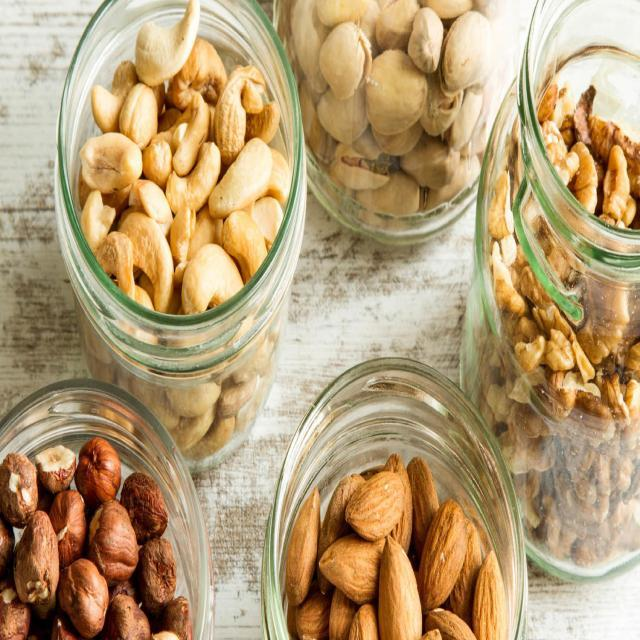Frutta secca: (68, 5, 286, 319), (291, 449, 502, 640), (3, 442, 185, 640)
